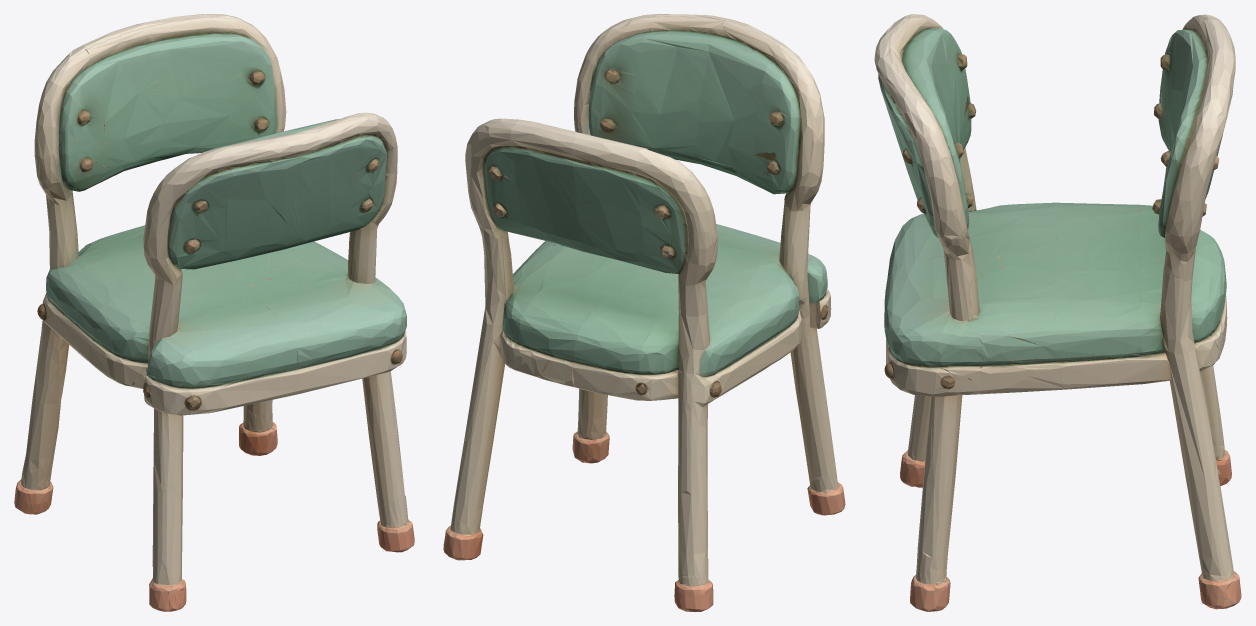
Rendered from 13-cafe-chair.glb.
The picture shows the model from 3 angles, left to right: view 1: azimuth 30°, elevation 25°; view 2: azimuth 150°, elevation 25°; view 3: azimuth 270°, elevation 25°; orthographic projection. The views are drawn at different scales.
Size of the model in its own units: 0.6104 by 0.999 by 0.6697.
1 material, 1 textured.
